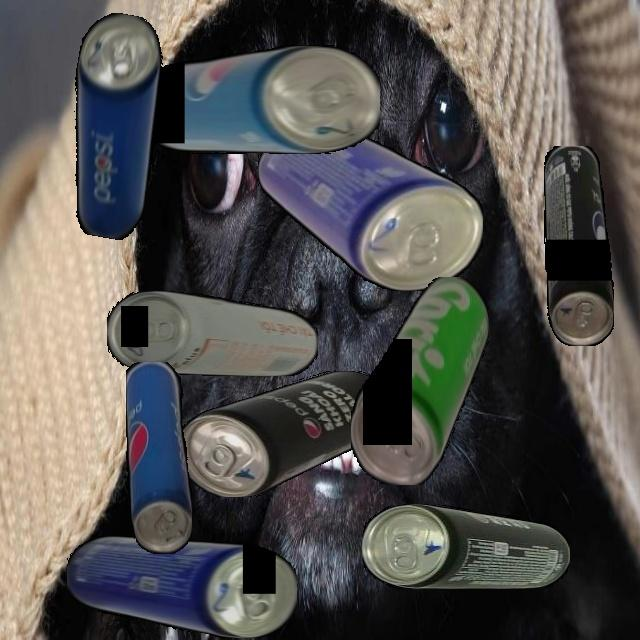debris: (257, 123, 483, 291), (49, 8, 176, 243), (350, 276, 489, 485), (178, 370, 392, 497), (134, 45, 380, 154), (66, 536, 297, 638), (107, 290, 318, 376), (362, 503, 570, 589), (543, 145, 614, 346), (125, 361, 192, 554)
